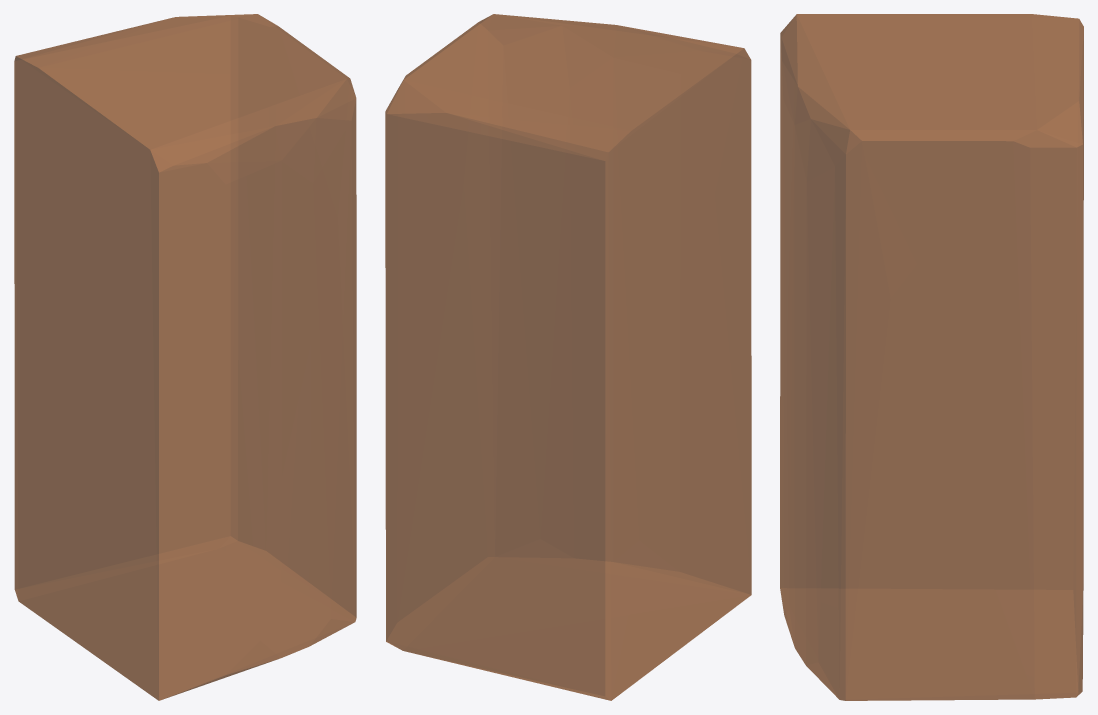
The picture shows the model from 3 angles, left to right: view 1: azimuth 30°, elevation 25°; view 2: azimuth 150°, elevation 25°; view 3: azimuth 270°, elevation 25°; orthographic projection. The views are drawn at different scales.
Visible parts, largest first — view 1: Shape_IndexedFaceSet.005; view 2: Shape_IndexedFaceSet.005; view 3: Shape_IndexedFaceSet.005.
Boxes of the visible parts, <box> form: Shape_IndexedFaceSet.005: <box>14,14,356,700</box>; Shape_IndexedFaceSet.005: <box>385,14,751,700</box>; Shape_IndexedFaceSet.005: <box>780,14,1083,700</box>.
Size of the model in its own units: 0.3318 by 0.7468 by 0.3571.
